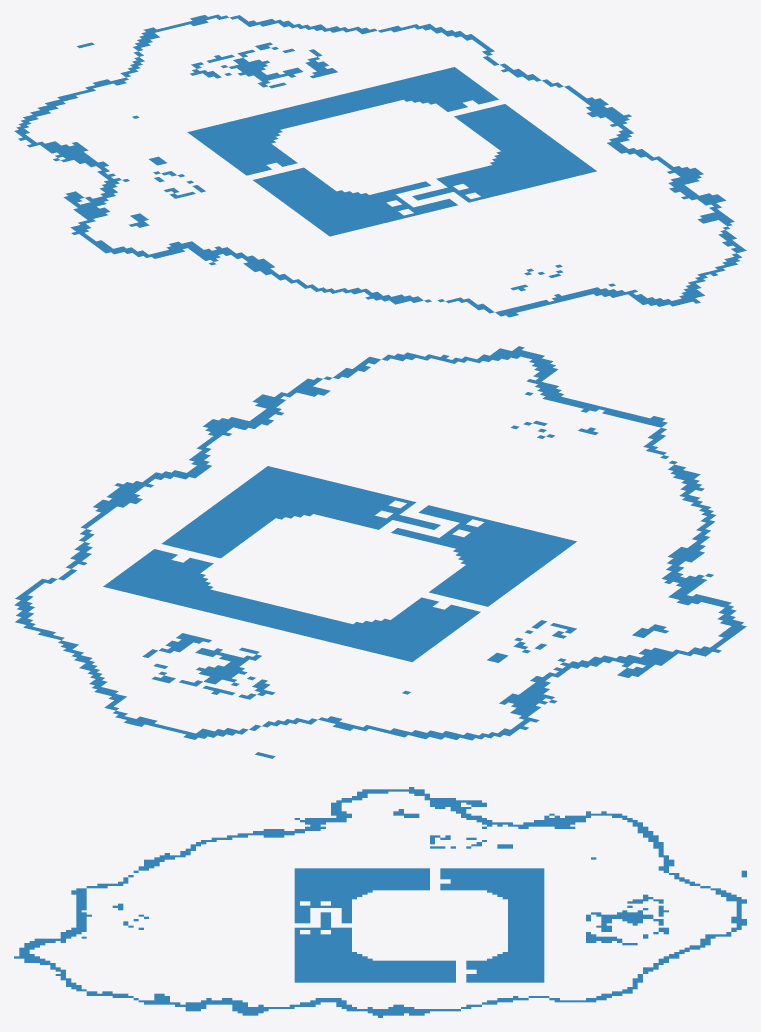
The model's file is Isl-orc2-PlaceForWaterObjects.fbx.
The picture shows the model from 3 angles, top to bottom: view 1: azimuth 30°, elevation 25°; view 2: azimuth 150°, elevation 25°; view 3: azimuth 270°, elevation 25°; orthographic projection. The views are drawn at different scales.
Visible parts, largest first — view 1: Isl-orc2-PlaceForWaterObjects; view 2: Isl-orc2-PlaceForWaterObjects; view 3: Isl-orc2-PlaceForWaterObjects.
Part boxes in pixels (x1=…): Isl-orc2-PlaceForWaterObjects: x1=14, y1=14, x2=746, y2=317; Isl-orc2-PlaceForWaterObjects: x1=14, y1=346, x2=746, y2=758; Isl-orc2-PlaceForWaterObjects: x1=14, y1=787, x2=746, y2=1017.
Bounding box in the file's own units: 105 × 0 × 141.
